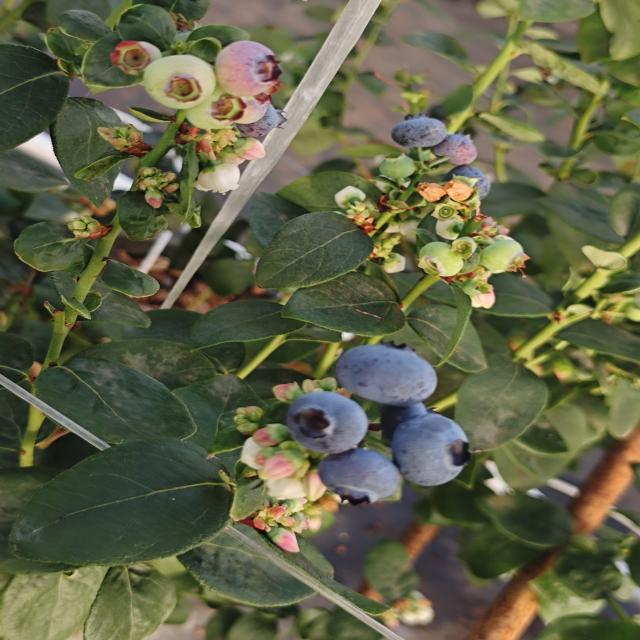ripe: (278, 387, 382, 450), (399, 408, 484, 484), (341, 347, 443, 403), (315, 442, 395, 504), (224, 96, 286, 142), (384, 111, 456, 148), (425, 124, 473, 163), (450, 159, 492, 195)
